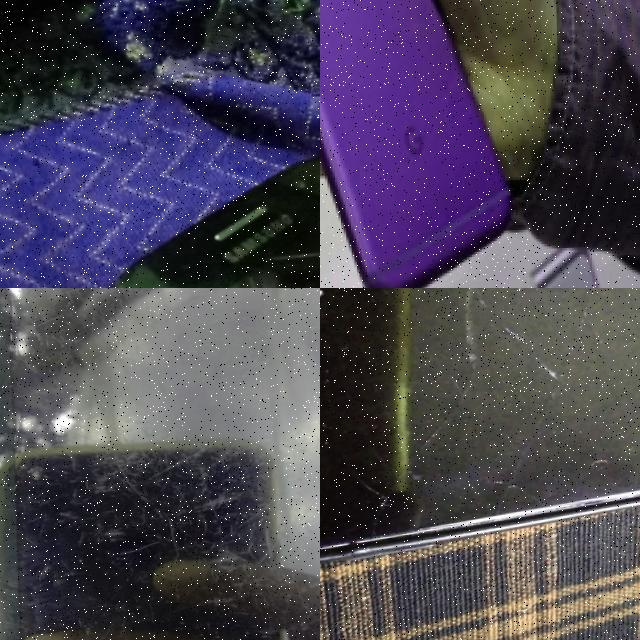scratch: (114, 414, 320, 640)
screen crack: (320, 288, 640, 431), (148, 170, 320, 288), (0, 288, 90, 480)
